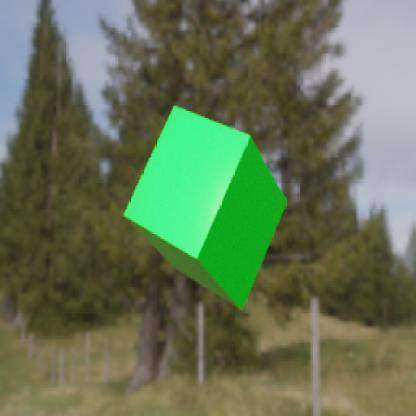green_cube: (124, 106, 288, 310)
